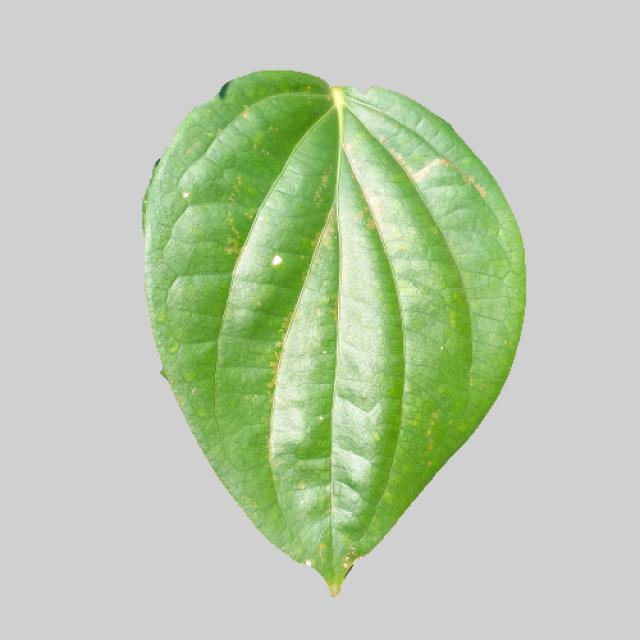healthy: (137, 63, 530, 604)
